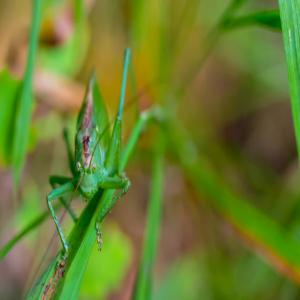locust: (40, 36, 152, 276)
